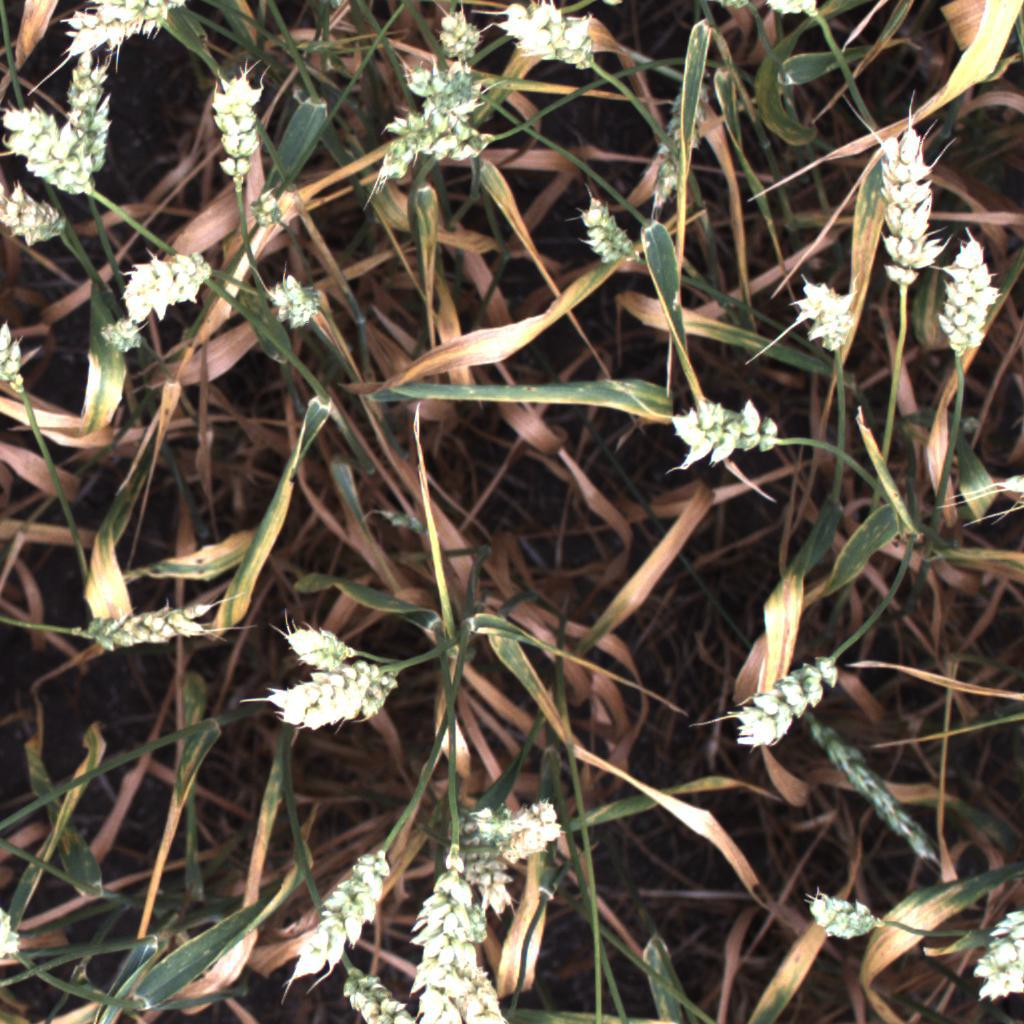0-0: (789, 700, 945, 873), (282, 842, 396, 988), (417, 812, 499, 995), (868, 117, 949, 295), (371, 70, 490, 189), (70, 587, 239, 665), (257, 651, 406, 739), (0, 94, 109, 210), (731, 655, 849, 755), (930, 219, 1004, 364), (663, 386, 779, 475), (495, 0, 616, 83), (109, 237, 225, 320), (40, 0, 202, 57), (60, 50, 123, 194), (400, 943, 513, 1023), (566, 190, 655, 276), (791, 262, 866, 363), (211, 60, 267, 193), (964, 897, 1024, 1012), (332, 954, 430, 1024), (385, 108, 501, 167), (461, 822, 525, 917), (473, 797, 566, 857), (655, 81, 701, 200), (274, 617, 369, 673), (263, 271, 333, 337), (0, 182, 66, 250), (811, 883, 876, 950), (426, 7, 491, 72), (387, 56, 468, 101), (0, 315, 29, 404), (0, 897, 29, 976), (979, 467, 1024, 514), (754, 0, 837, 25), (99, 316, 151, 353), (246, 190, 285, 232)
